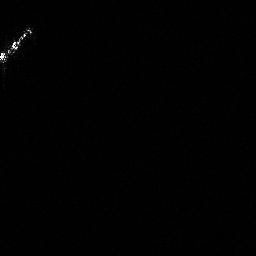ship: (1, 22, 39, 65)
